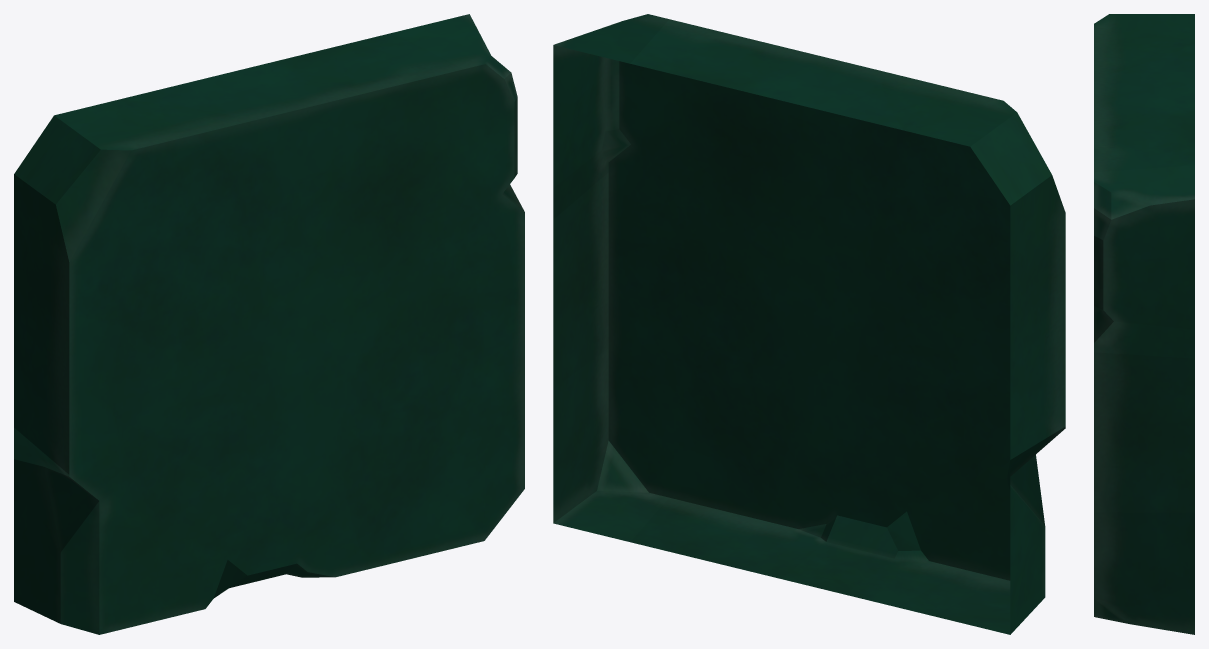
Rendered from Floor1.fbx.
3 views of the same model, side by side, from view 1: azimuth 30°, elevation 25°; view 2: azimuth 150°, elevation 25°; view 3: azimuth 270°, elevation 25° (orthographic). The views are drawn at different scales.
Visible parts, largest first — view 1: Cube.001; view 2: Cube.001; view 3: Cube.001.
Boxes of the visible parts, bbox=[...] form: Cube.001: bbox=[14, 14, 524, 634]; Cube.001: bbox=[553, 14, 1065, 634]; Cube.001: bbox=[1094, 14, 1194, 634].
Size of the model in its own units: 19945 by 19945 by 4190.
1 material, 1 textured.
